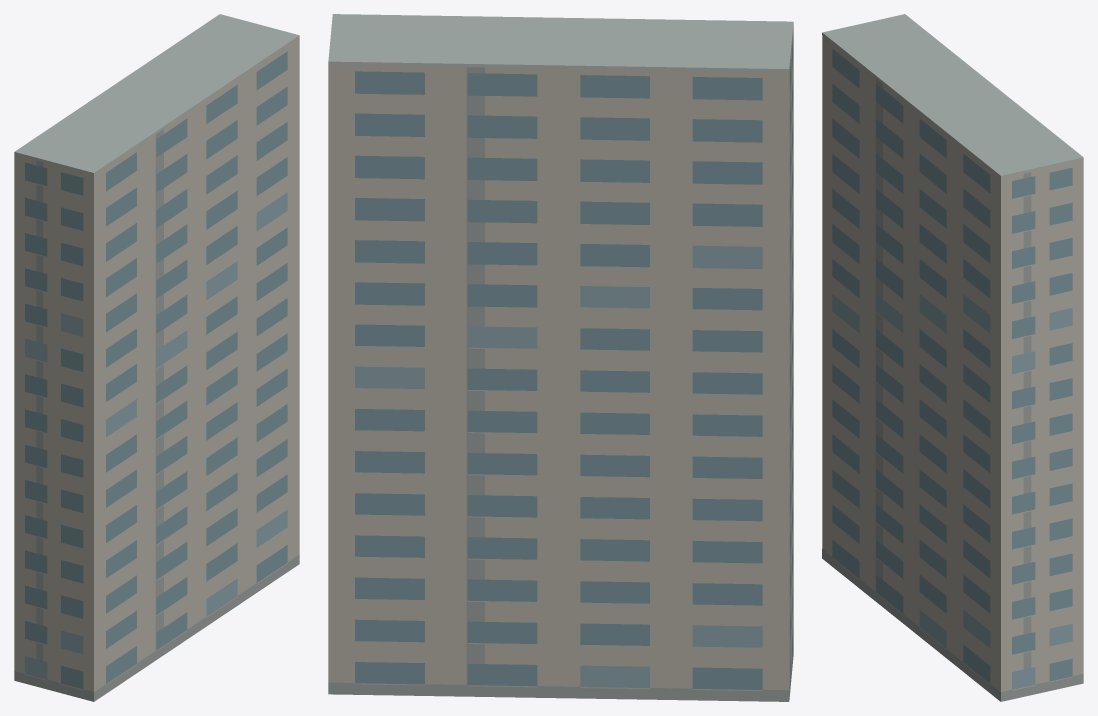
File: residential-68c0ece0-c21f-4c00-80fb-7973fbc00729.glb
3 renders of one model, left to right at view 1: azimuth 30°, elevation 25°; view 2: azimuth 150°, elevation 25°; view 3: azimuth 270°, elevation 25°, orthographic. The views are drawn at different scales.
Parts seen in each view (by area): view 1: residential-68c0ece0-c21f-4c00-80fb-7973fbc00729.tmp; view 2: residential-68c0ece0-c21f-4c00-80fb-7973fbc00729.tmp; view 3: residential-68c0ece0-c21f-4c00-80fb-7973fbc00729.tmp.
Part boxes in pixels (box(x1,y1,x2,y2)): residential-68c0ece0-c21f-4c00-80fb-7973fbc00729.tmp: box(14, 14, 299, 701); residential-68c0ece0-c21f-4c00-80fb-7973fbc00729.tmp: box(328, 14, 793, 701); residential-68c0ece0-c21f-4c00-80fb-7973fbc00729.tmp: box(822, 14, 1083, 701).
Bounding box in the file's own units: 30.35 × 46 × 20.74.
